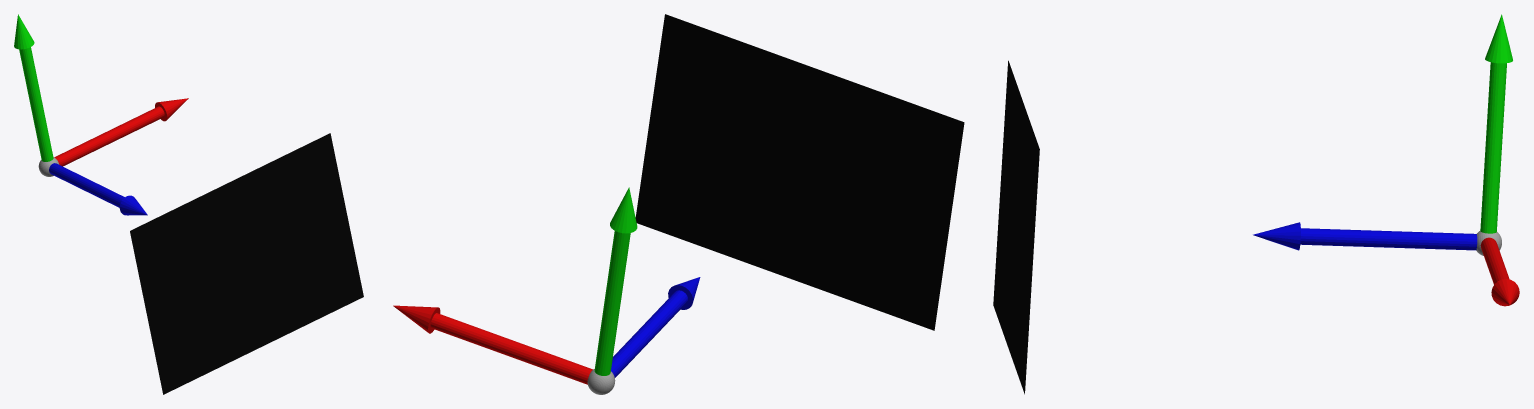
3 views of the same model, side by side, from view 1: azimuth 30°, elevation 25°; view 2: azimuth 150°, elevation 25°; view 3: azimuth 270°, elevation 25° (orthographic). The views are drawn at different scales.
Bounding box in the file's own units: 0.2019 × 0.1855 × 0.2775.
